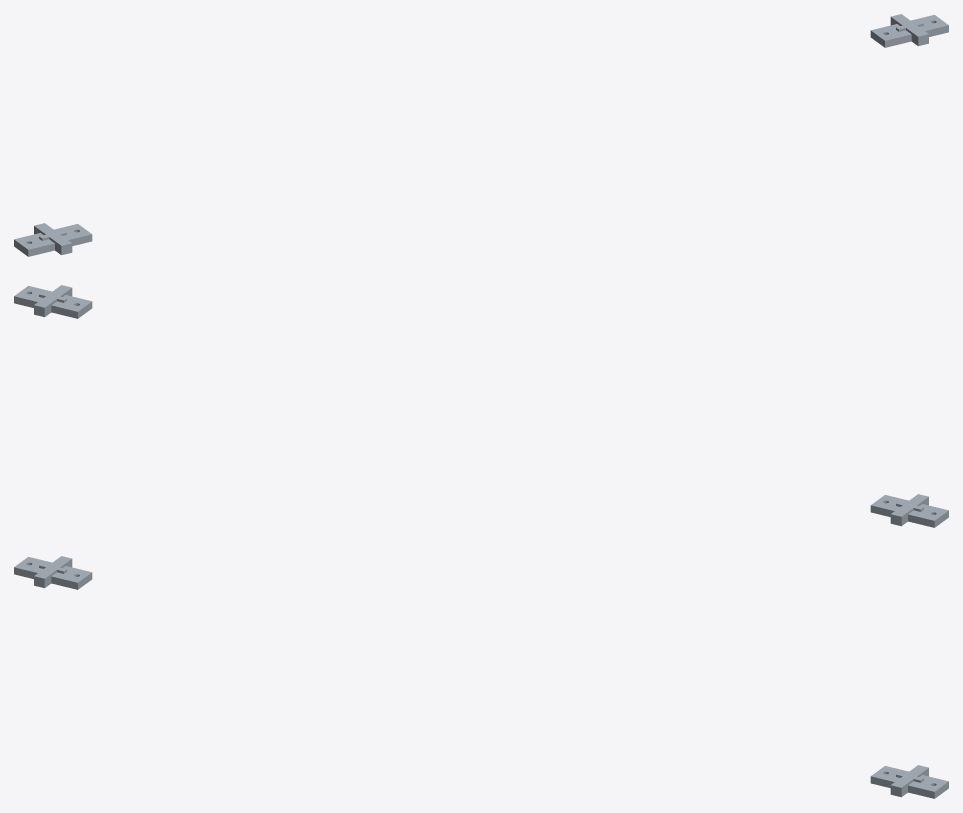
Rendered from 8_Mounting_Saddles.glb.
The picture shows the model from 3 angles, top to bottom: view 1: azimuth 30°, elevation 25°; view 2: azimuth 150°, elevation 25°; view 3: azimuth 330°, elevation 25°; orthographic projection.
Parts seen in each view (by area): view 1: geometry_0; view 2: geometry_0; view 3: geometry_0.
Part boxes in pixels (x1,y1,x2,y2): geometry_0: [14, 14, 948, 256]; geometry_0: [14, 285, 948, 527]; geometry_0: [14, 556, 948, 798].
Bounding box in the file's own units: 1.7 × 0.0167 × 0.088.
